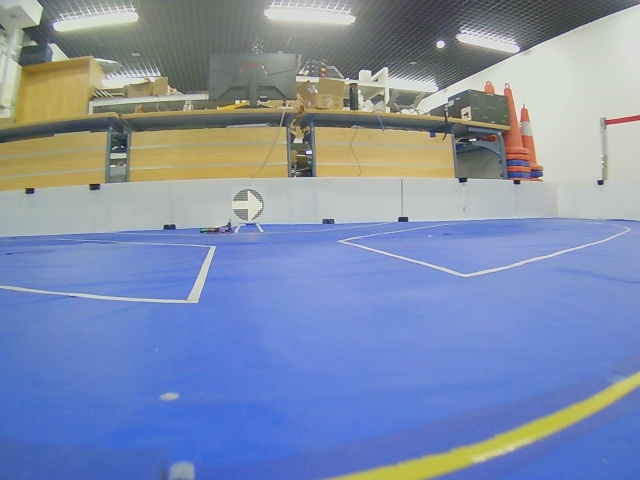right_yellow: (232, 189, 264, 222)
